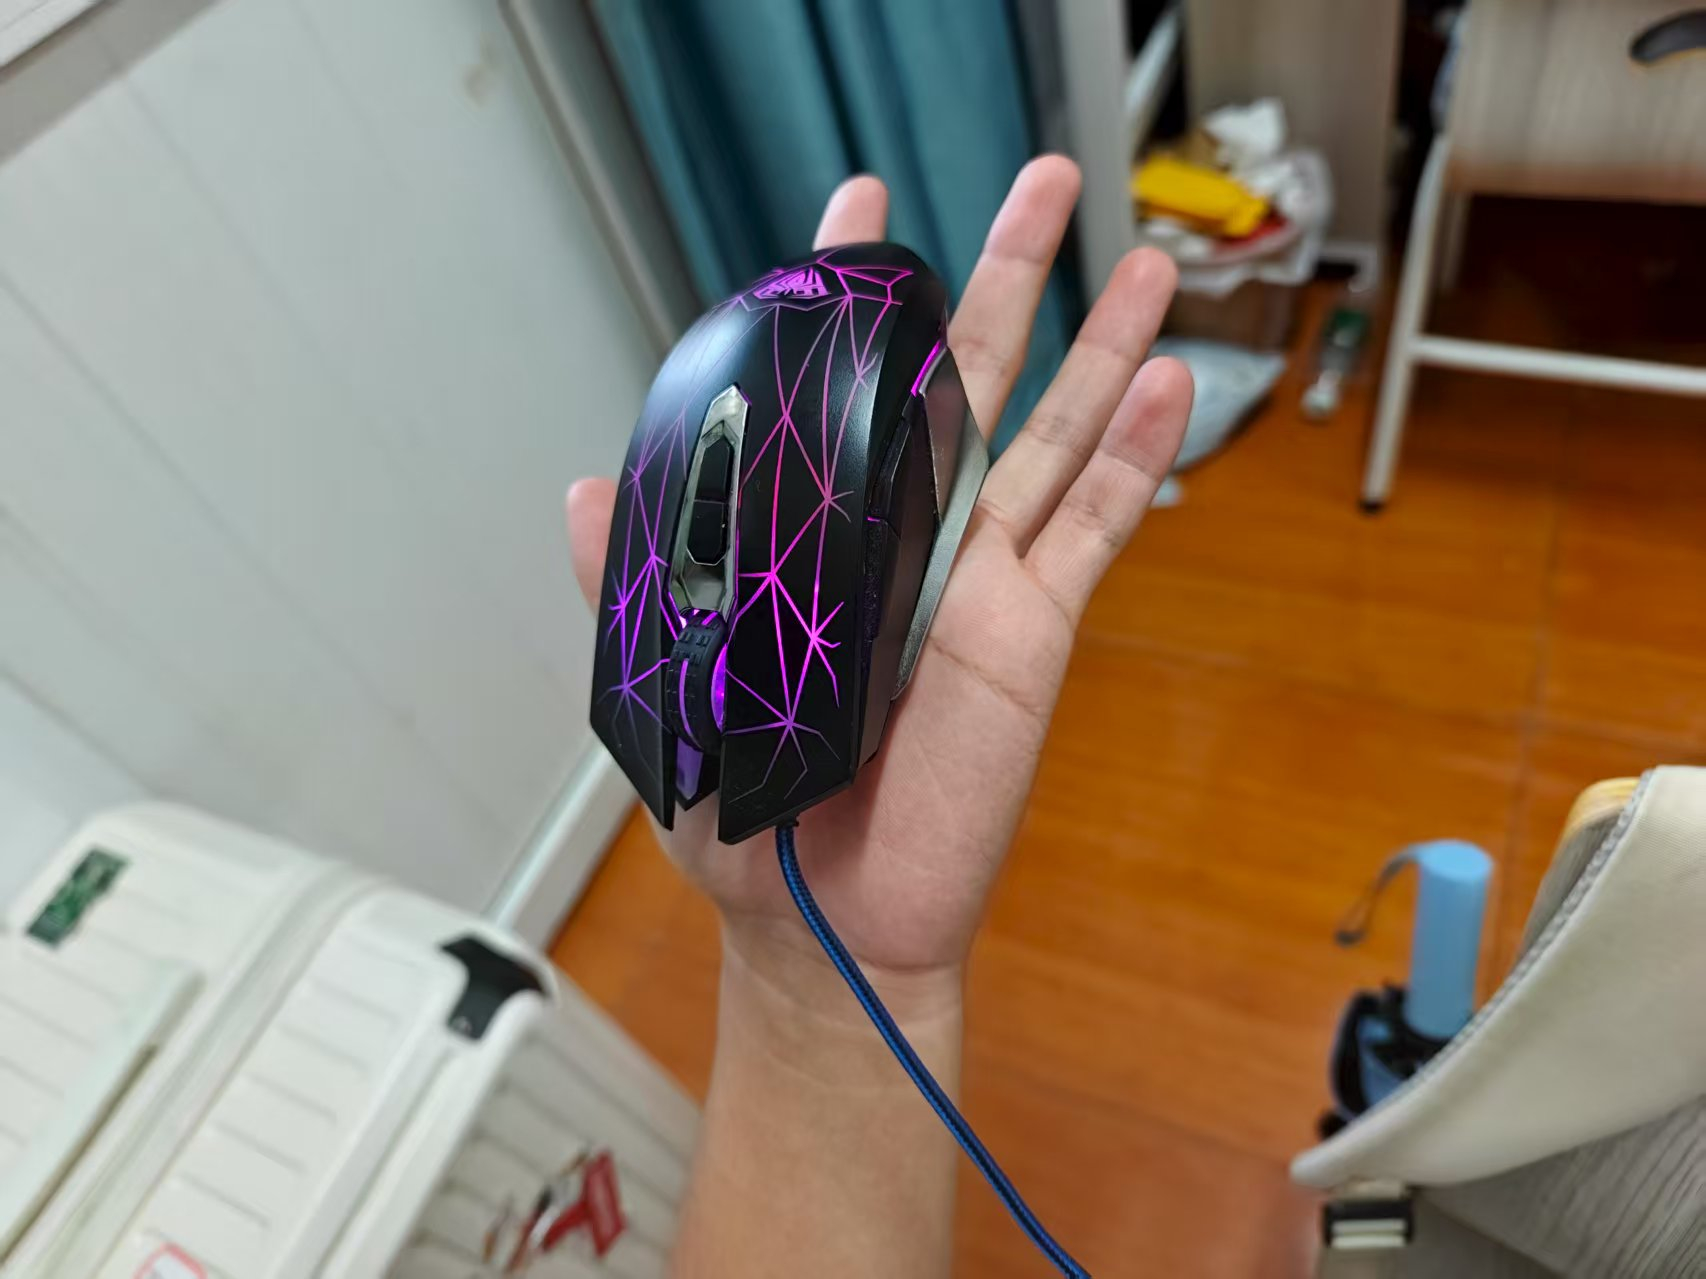mouse: (555, 238, 977, 833)
